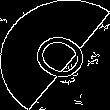O_SE: (17, 22, 93, 88)
